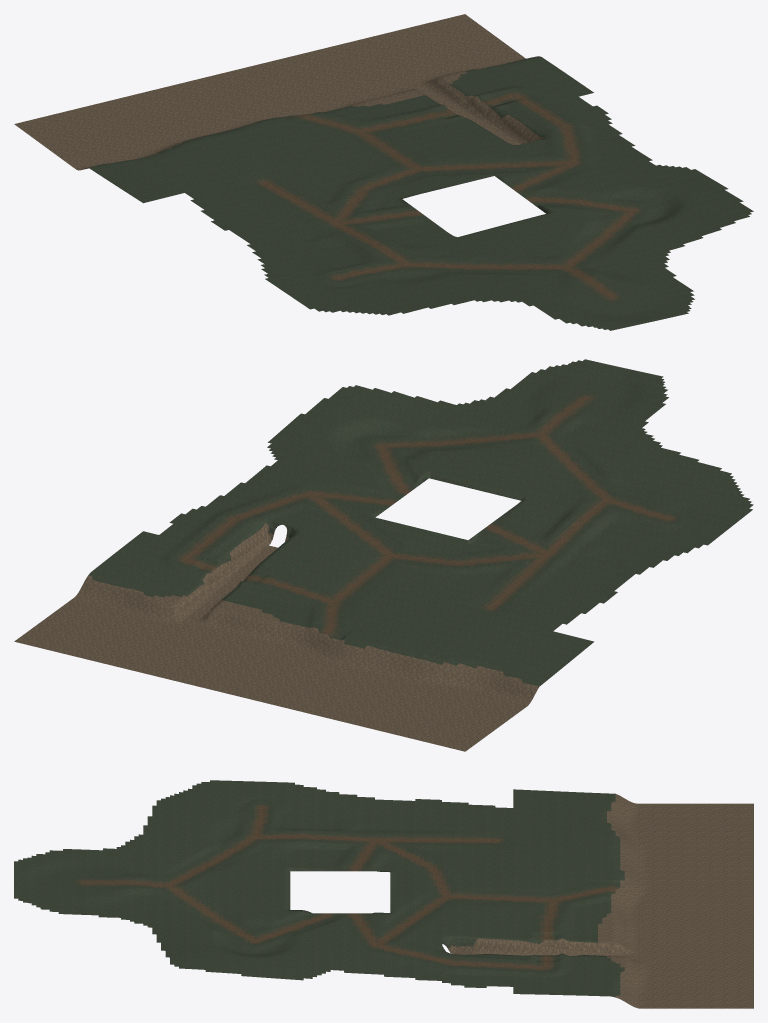
Rendered from level_camp_ground_green.glb.
3 views of the same model, one above another, from view 1: azimuth 30°, elevation 25°; view 2: azimuth 150°, elevation 25°; view 3: azimuth 270°, elevation 25° (orthographic). The views are drawn at different scales.
Visible parts, largest first — view 1: level_camp_ground_green; view 2: level_camp_ground_green; view 3: level_camp_ground_green.
Boxes of the visible parts, x1,y1,x2,y2 form: level_camp_ground_green: (14, 14, 753, 330); level_camp_ground_green: (14, 359, 753, 751); level_camp_ground_green: (14, 780, 753, 1008).
Size of the model in its own units: 68 by 5.11 by 104.
Materials: 6 (6 with a texture image).
